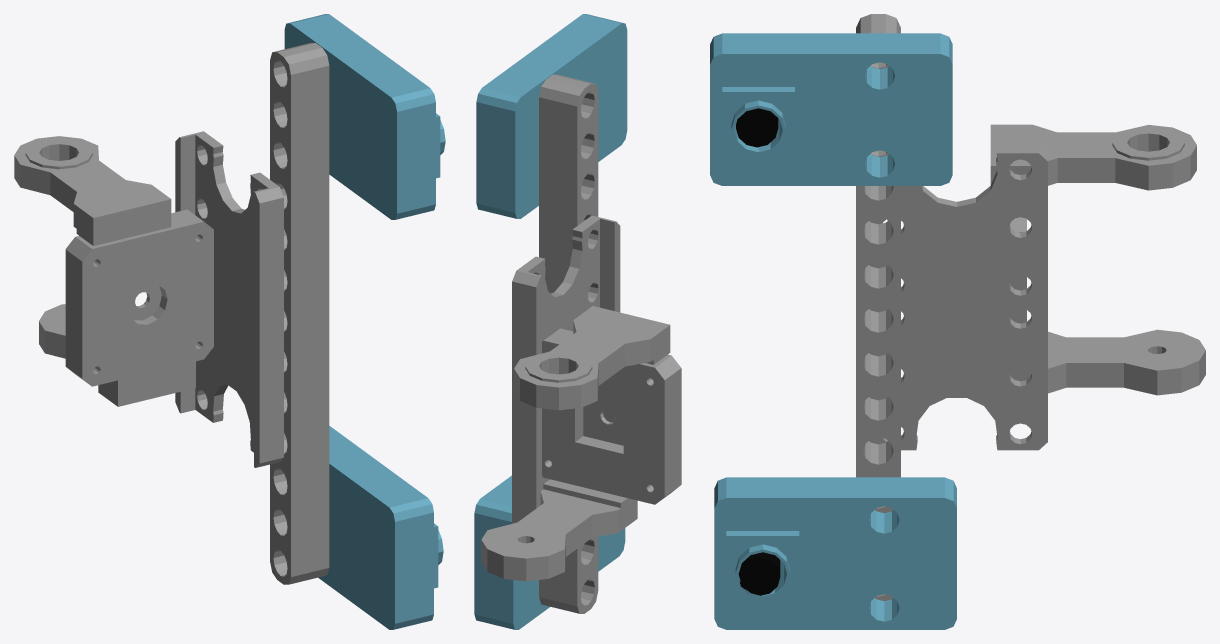
The model's file is head-neck-p.glb.
3 views of the same model, side by side, from view 1: azimuth 30°, elevation 25°; view 2: azimuth 150°, elevation 25°; view 3: azimuth 270°, elevation 25° (orthographic). The views are drawn at different scales.
Bounding box in the file's own units: 0.0499 × 0.1047 × 0.0817.
